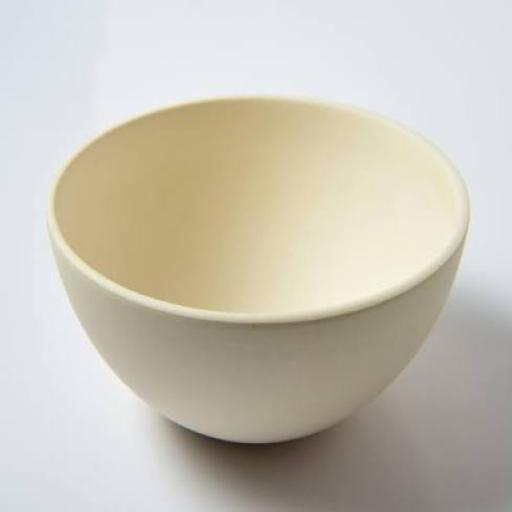Bowl: (48, 97, 469, 443)
